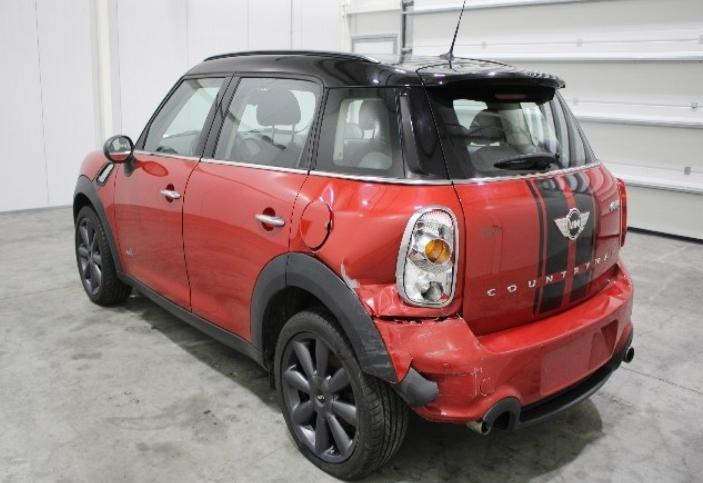Back-bumper: (287, 253, 633, 431)
Back-door: (182, 72, 327, 352)
Back-wheel: (273, 304, 409, 481)
Back-window: (213, 77, 320, 167), (315, 88, 404, 178)
Back-windshield: (425, 83, 595, 178)
Fender: (76, 151, 125, 272)
Front-bumper: (73, 176, 91, 211)
Front-door: (113, 73, 234, 311)
Front-wheel: (74, 205, 133, 305)
Front-window: (143, 77, 225, 156)
Mirror: (104, 135, 135, 176)
Quarter-panel: (289, 170, 466, 322)
Rocker-panel: (116, 270, 265, 368)
Roof: (184, 50, 502, 88)
Tail-light: (395, 205, 459, 308), (616, 178, 627, 247)
Trunk: (450, 161, 622, 336), (416, 64, 564, 87)
